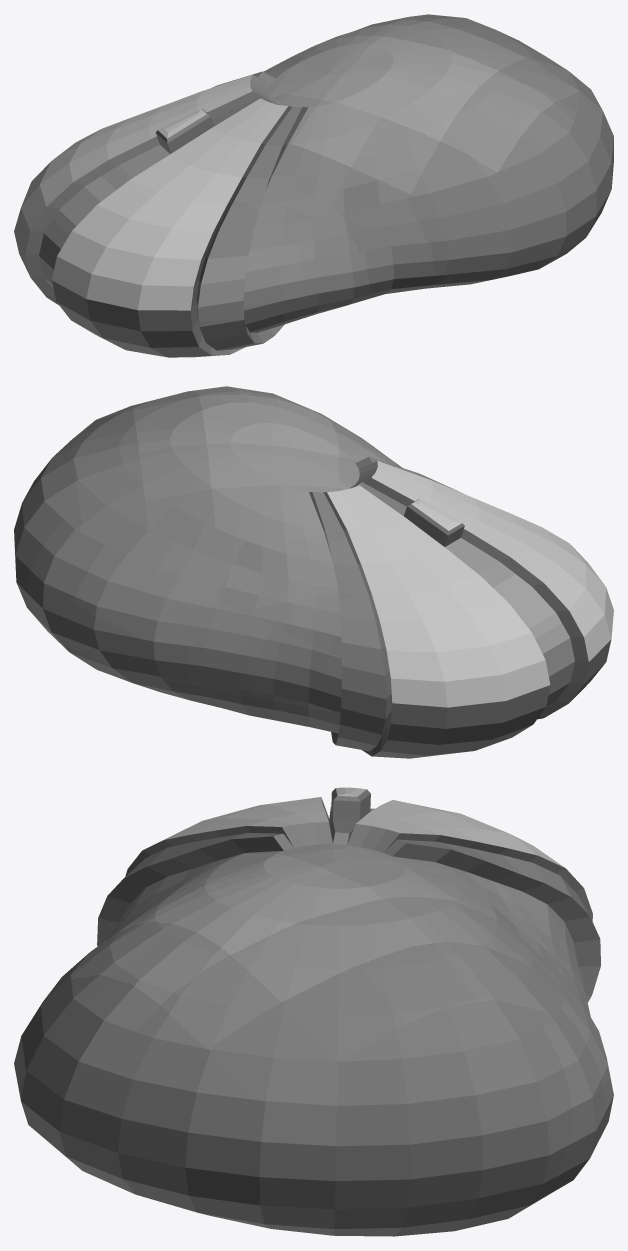
File: mouse.fbx
3 views of the same model, one above another, from view 1: azimuth 30°, elevation 25°; view 2: azimuth 150°, elevation 25°; view 3: azimuth 270°, elevation 25° (orthographic). The views are drawn at different scales.
Parts seen in each view (by area): view 1: Sphere; view 2: Sphere; view 3: Sphere.
Boxes of the visible parts, box(x1,y1,x2,y2) form: Sphere: box(14, 14, 613, 357); Sphere: box(14, 386, 613, 758); Sphere: box(14, 787, 613, 1236).
Size of the model in its own units: 114 by 48.41 by 80.8.
Materials: 1 (1 with a texture image).
